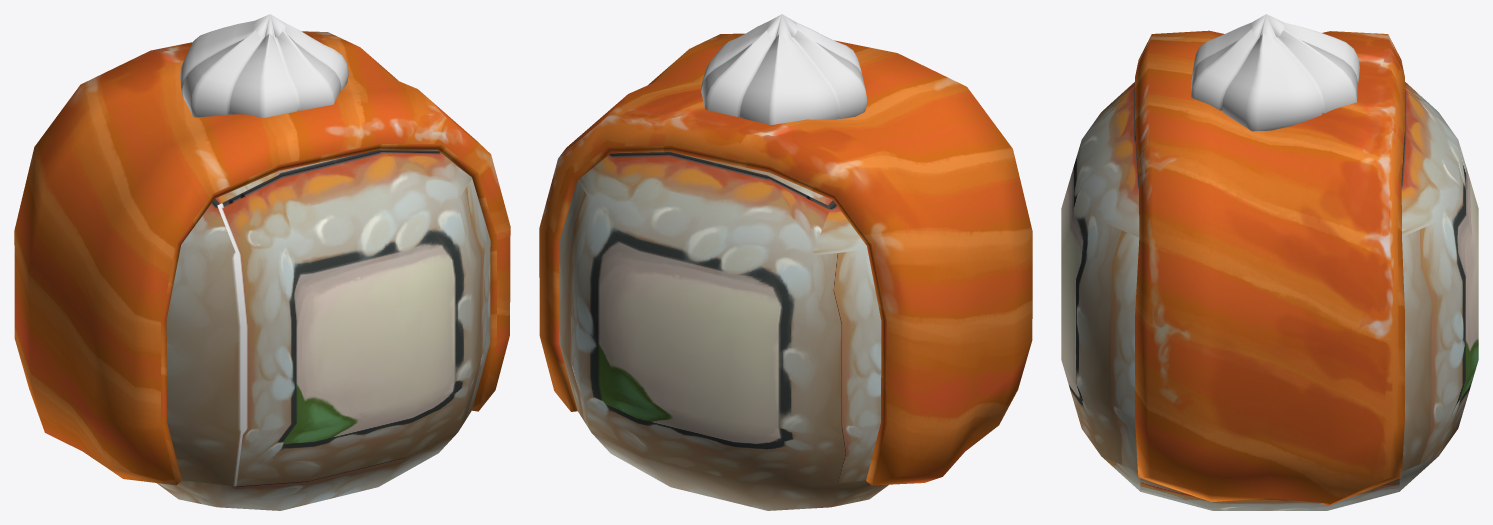
Rendered from sushi2.fbx.
3 views of the same model, side by side, from view 1: azimuth 30°, elevation 25°; view 2: azimuth 150°, elevation 25°; view 3: azimuth 270°, elevation 25° (orthographic).
Parts seen in each view (by area): view 1: Cube.001, Cube.002, Sphere.001; view 2: Cube.001, Cube.002, Sphere.001; view 3: Cube.002, Cube.001, Sphere.001.
Part boxes in pixels (bbox=[...]): Cube.001: bbox=[156, 150, 490, 510]; Cube.002: bbox=[14, 31, 510, 485]; Sphere.001: bbox=[180, 14, 348, 117]; Cube.001: bbox=[559, 152, 888, 510]; Cube.002: bbox=[539, 33, 1032, 485]; Sphere.001: bbox=[701, 14, 867, 124]; Cube.002: bbox=[1135, 30, 1404, 505]; Cube.001: bbox=[1061, 82, 1478, 510]; Sphere.001: bbox=[1191, 14, 1359, 131].
Size of the model in its own units: 272 by 290 by 238.
